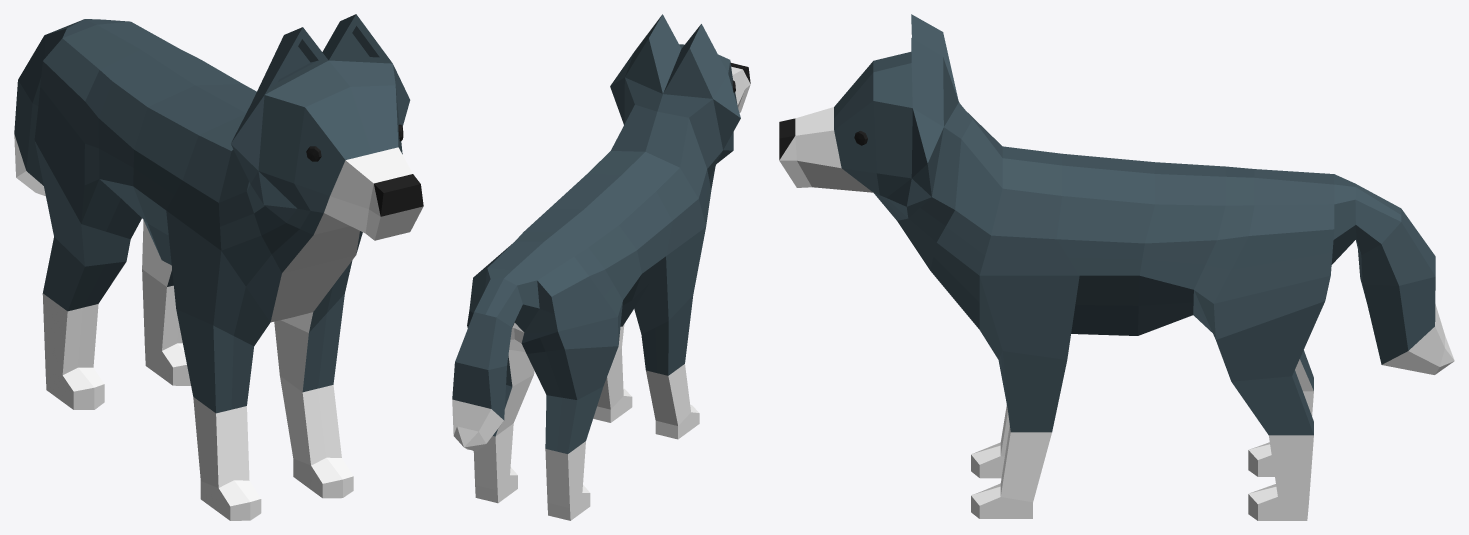
Rendered from Wolf_01.obj.
The picture shows the model from 3 angles, left to right: view 1: azimuth 30°, elevation 25°; view 2: azimuth 150°, elevation 25°; view 3: azimuth 270°, elevation 25°; orthographic projection. The views are drawn at different scales.
Parts seen in each view (by area): view 1: Wolf_01_Cube.049; view 2: Wolf_01_Cube.049; view 3: Wolf_01_Cube.049.
Boxes of the visible parts, x1=… form: Wolf_01_Cube.049: x1=14, y1=14, x2=423, y2=520; Wolf_01_Cube.049: x1=452, y1=14, x2=750, y2=520; Wolf_01_Cube.049: x1=779, y1=14, x2=1454, y2=520.
Size of the model in its own units: 3.8 by 10.37 by 13.61.
